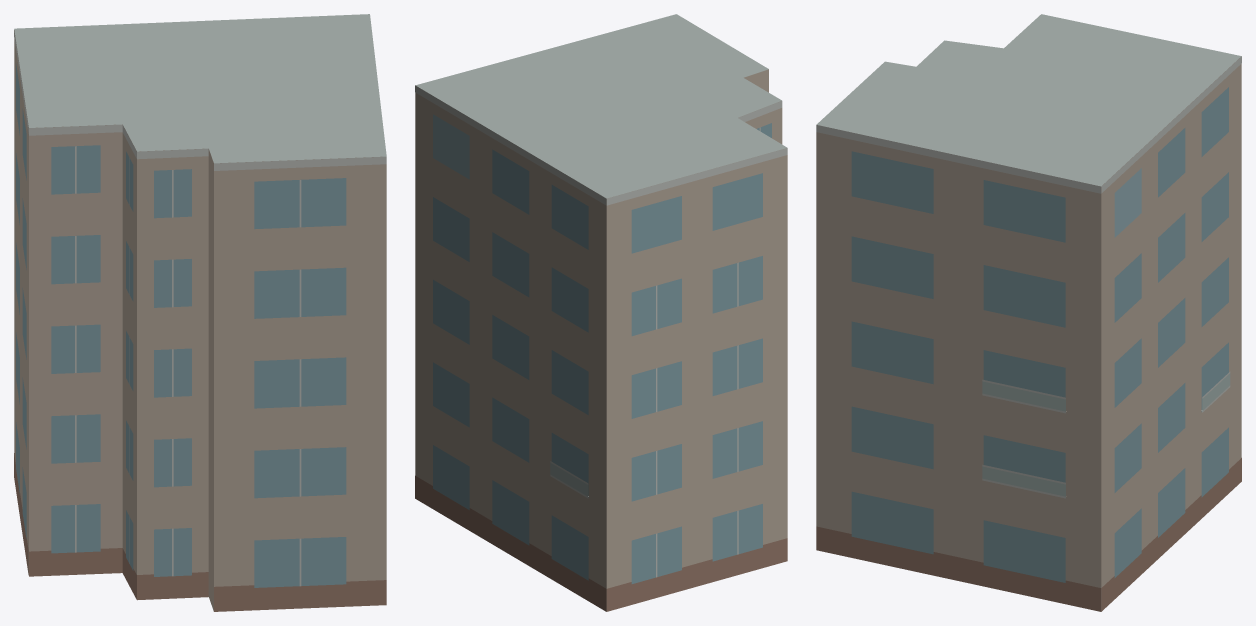
Rendered from survey-upis-32694926.glb.
The picture shows the model from 3 angles, left to right: view 1: azimuth 30°, elevation 25°; view 2: azimuth 150°, elevation 25°; view 3: azimuth 270°, elevation 25°; orthographic projection. The views are drawn at different scales.
Parts seen in each view (by area): view 1: survey-upis-32694926.tmp; view 2: survey-upis-32694926.tmp; view 3: survey-upis-32694926.tmp.
Boxes of the visible parts, x1,y1,x2,y2 form: survey-upis-32694926.tmp: [14, 14, 386, 611]; survey-upis-32694926.tmp: [415, 14, 787, 611]; survey-upis-32694926.tmp: [816, 14, 1241, 611].
Size of the model in its own units: 12.36 by 14.2 by 12.88.
